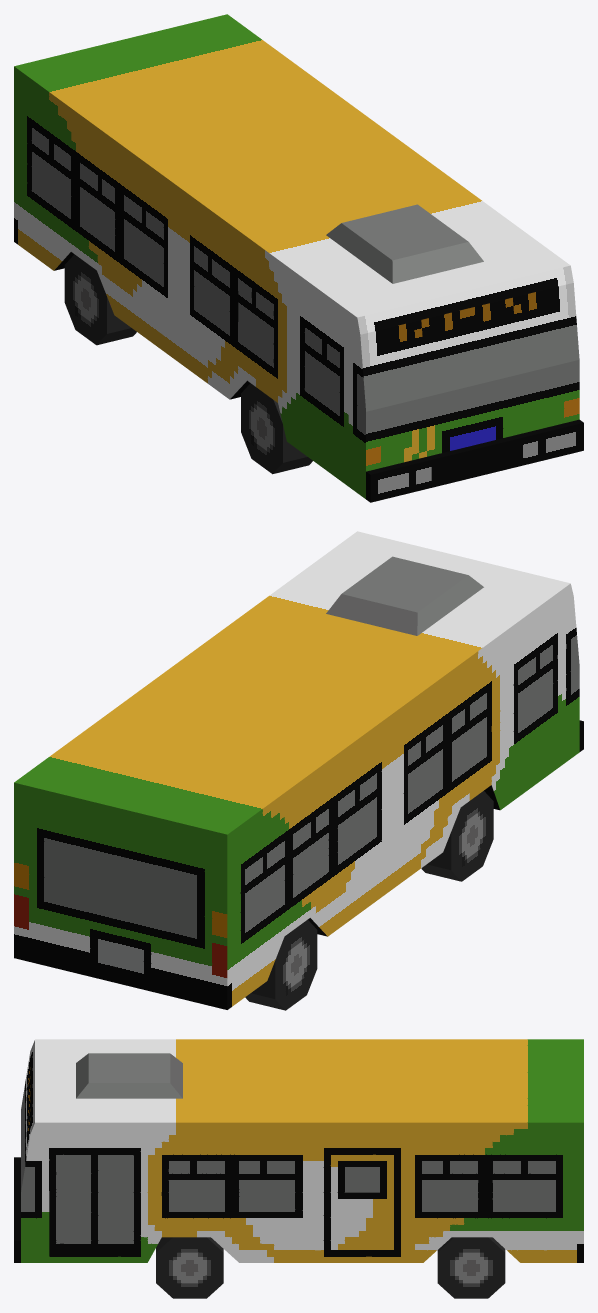
File: bus_2.glb
3 views of the same model, one above another, from view 1: azimuth 30°, elevation 25°; view 2: azimuth 150°, elevation 25°; view 3: azimuth 270°, elevation 25° (orthographic). The views are drawn at different scales.
Parts seen in each view (by area): view 1: cube_0, cube_4, cube_2; view 2: cube_0, cube_4, cube_2; view 3: cube_0, cube_3, cube_1.
Boxes of the visible parts, x1=… form: cube_0: x1=14, y1=14, x2=583, y2=502; cube_4: x1=64, y1=254, x2=136, y2=345; cube_2: x1=241, y1=383, x2=312, y2=474; cube_0: x1=14, y1=531, x2=583, y2=1009; cube_4: x1=245, y1=919, x2=317, y2=1010; cube_2: x1=421, y1=791, x2=493, y2=881; cube_0: x1=14, y1=1039, x2=583, y2=1262; cube_3: x1=156, y1=1237, x2=223, y2=1298; cube_1: x1=437, y1=1237, x2=505, y2=1298.
Bounding box in the file's own units: 0.875 × 0.925 × 2.53.
Materials: 2 (2 with a texture image).
